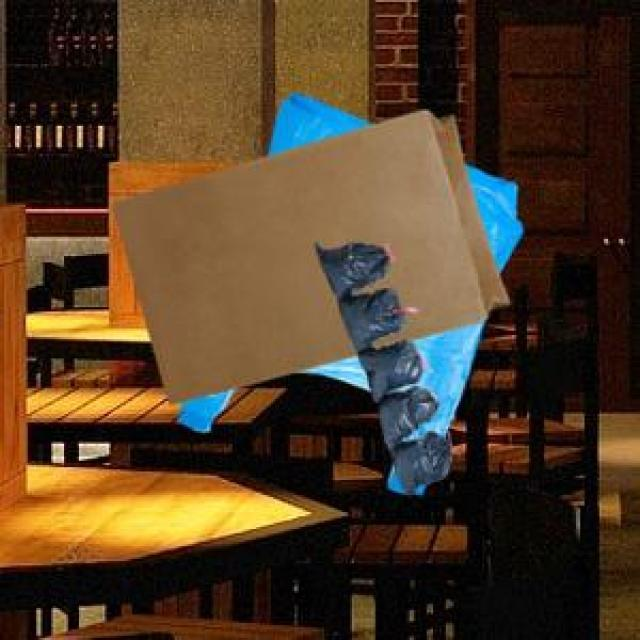miscellaneous trash: (312, 239, 450, 491)
paper: (109, 107, 506, 399)
